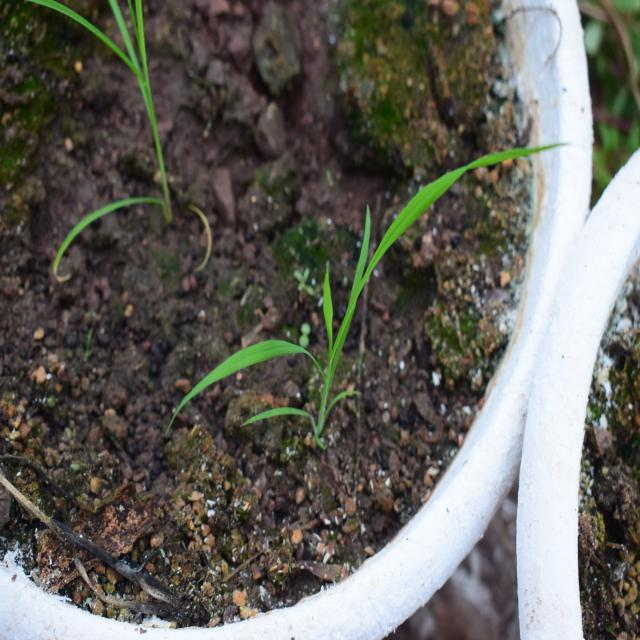barnyard_grass: (159, 117, 498, 450)
